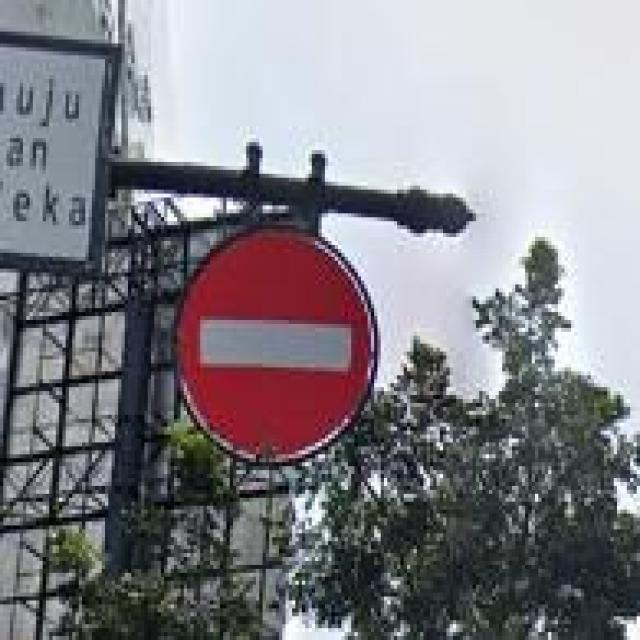traffic sign: (181, 229, 368, 458)
